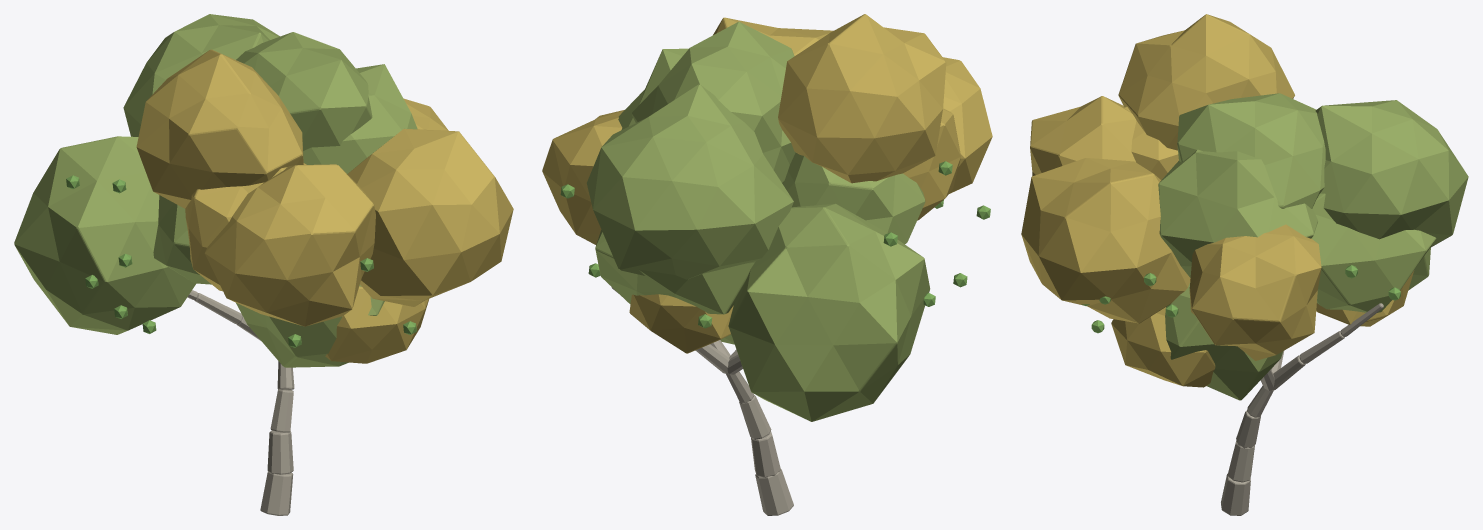
File: FruitTreeC.fbx
3 renders of one model, left to right at view 1: azimuth 30°, elevation 25°; view 2: azimuth 150°, elevation 25°; view 3: azimuth 270°, elevation 25°, orthographic. The views are drawn at different scales.
Visible parts, largest first — view 1: FruitTreeC; view 2: FruitTreeC; view 3: FruitTreeC.
Boxes of the visible parts, left/top/right/bottom form: FruitTreeC: left=14, top=14, right=513, bottom=515; FruitTreeC: left=542, top=14, right=992, bottom=515; FruitTreeC: left=1021, top=14, right=1468, bottom=515.
Size of the model in its own units: 3.51 by 4.17 by 3.64.
